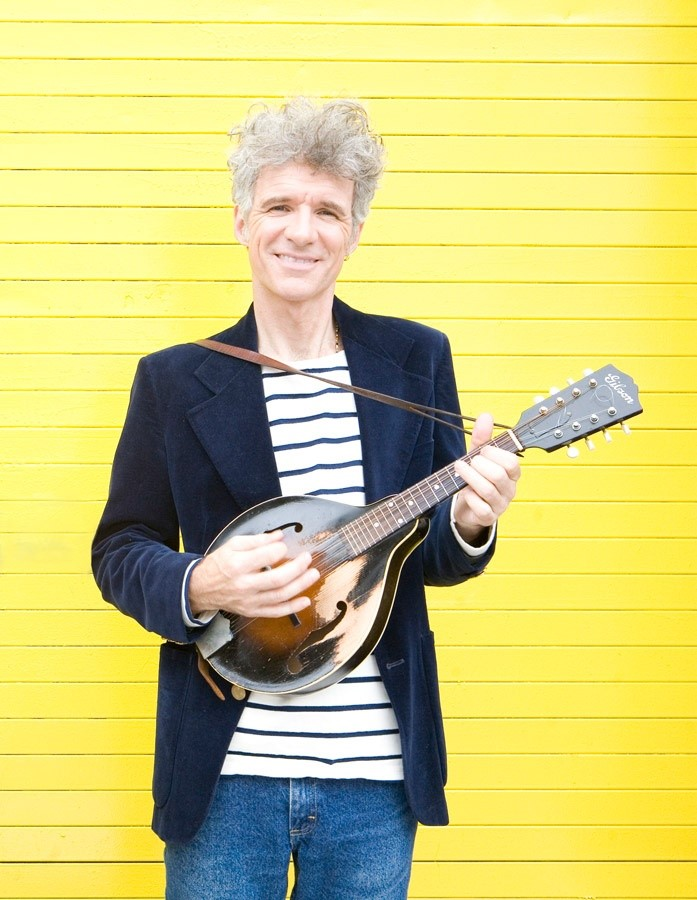face_no_mask: (230, 103, 375, 299)
